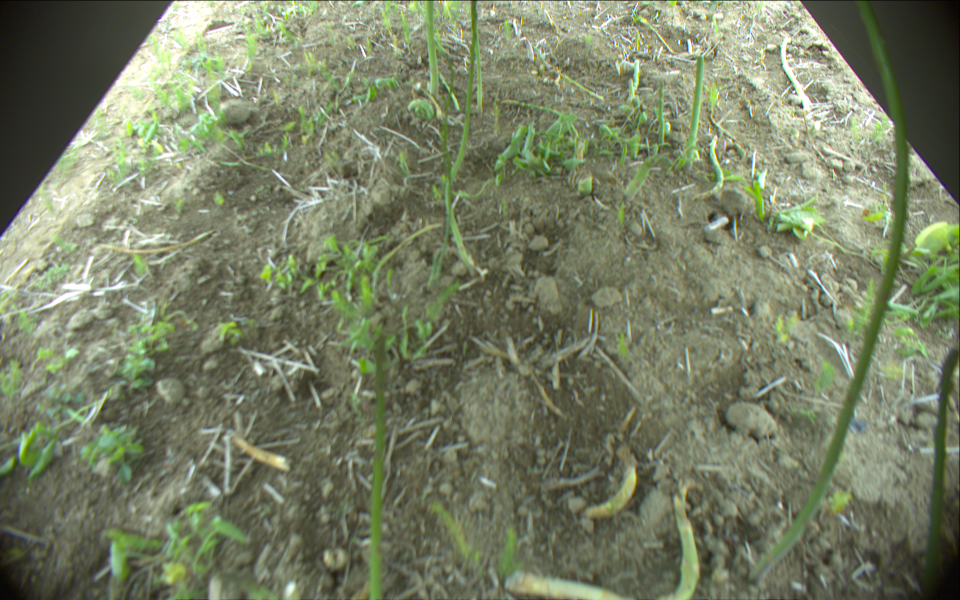aspa: (750, 1, 911, 583), (504, 487, 701, 600), (925, 344, 957, 587), (449, 1, 477, 180), (373, 224, 444, 293), (369, 339, 386, 600), (584, 468, 636, 520), (541, 59, 604, 100), (445, 173, 471, 269), (693, 135, 726, 200), (686, 55, 705, 167), (779, 35, 807, 111), (633, 16, 678, 53), (624, 150, 657, 199), (425, 1, 440, 97), (504, 99, 565, 118), (440, 73, 459, 108), (474, 27, 482, 109), (628, 57, 641, 105), (657, 88, 665, 145)
